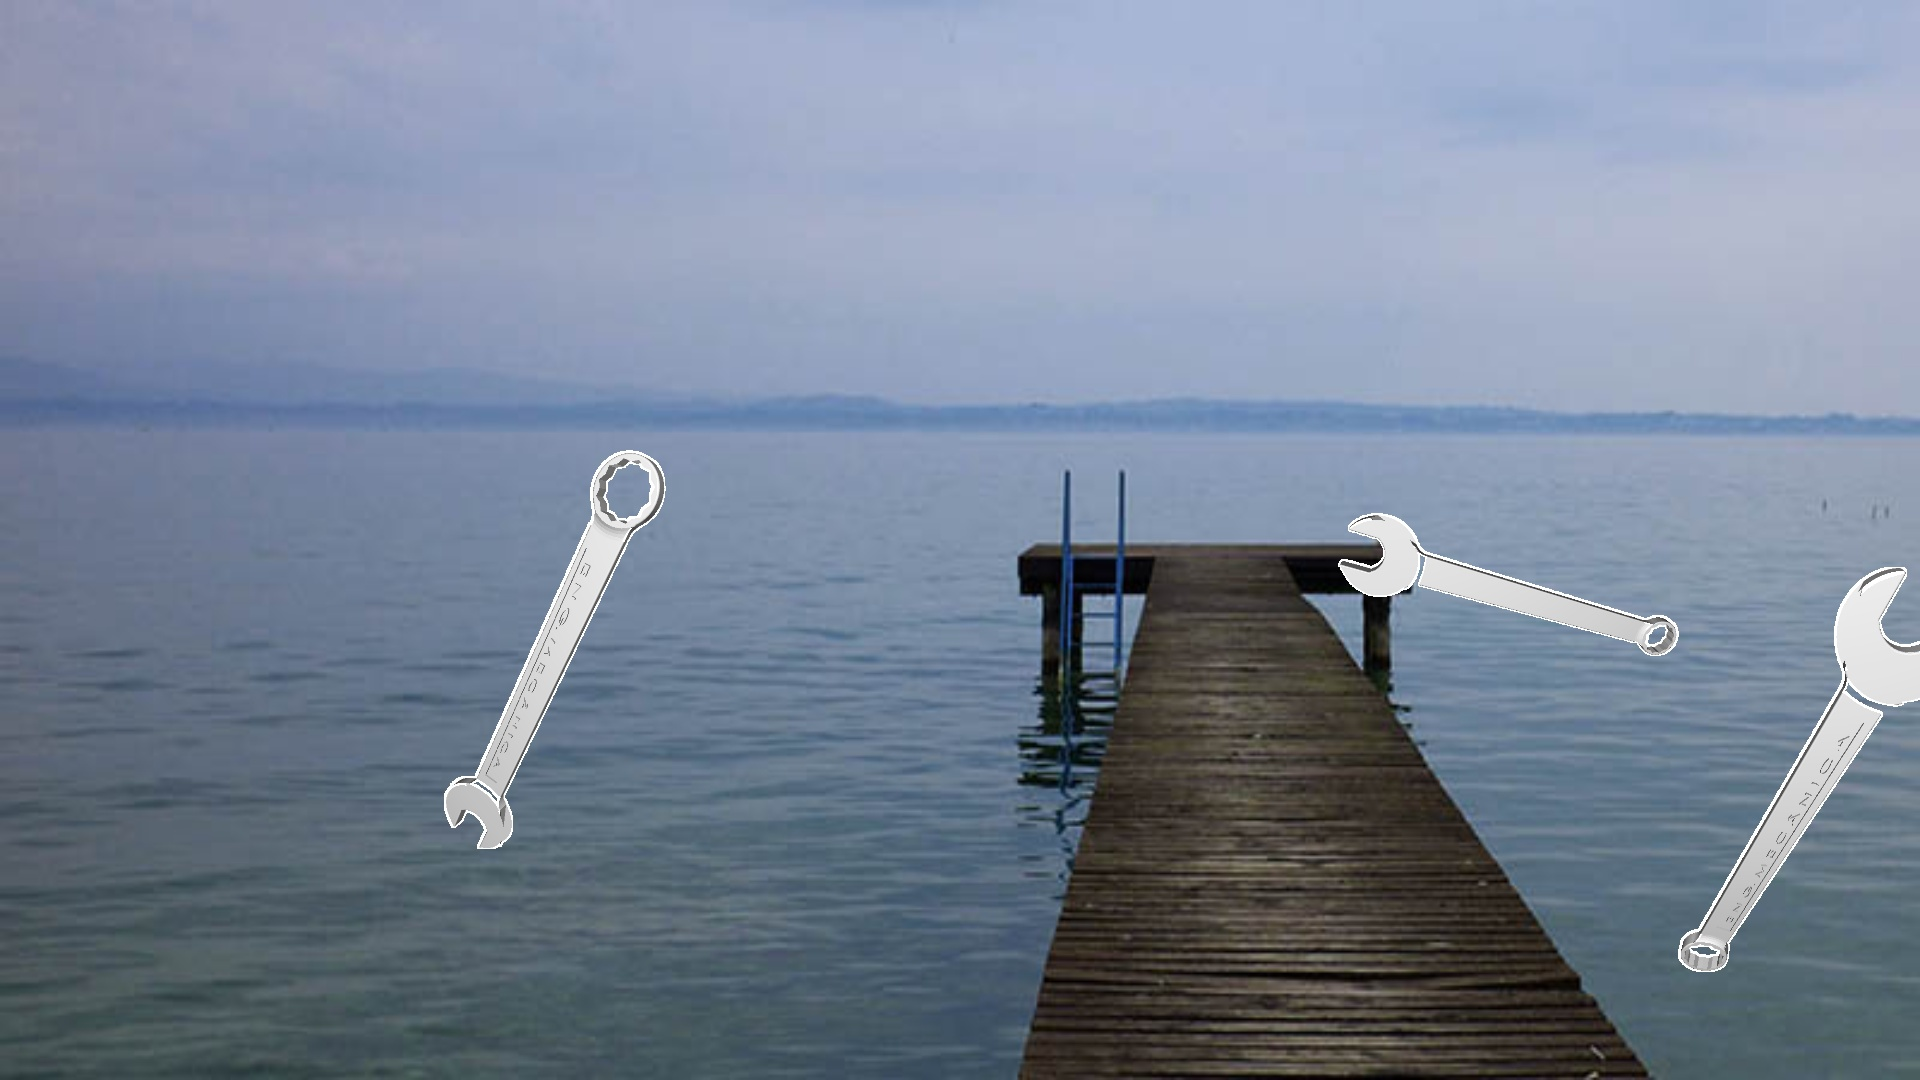Mixed Key: (1677, 567, 1919, 971), (444, 450, 665, 848), (1338, 513, 1677, 655)
